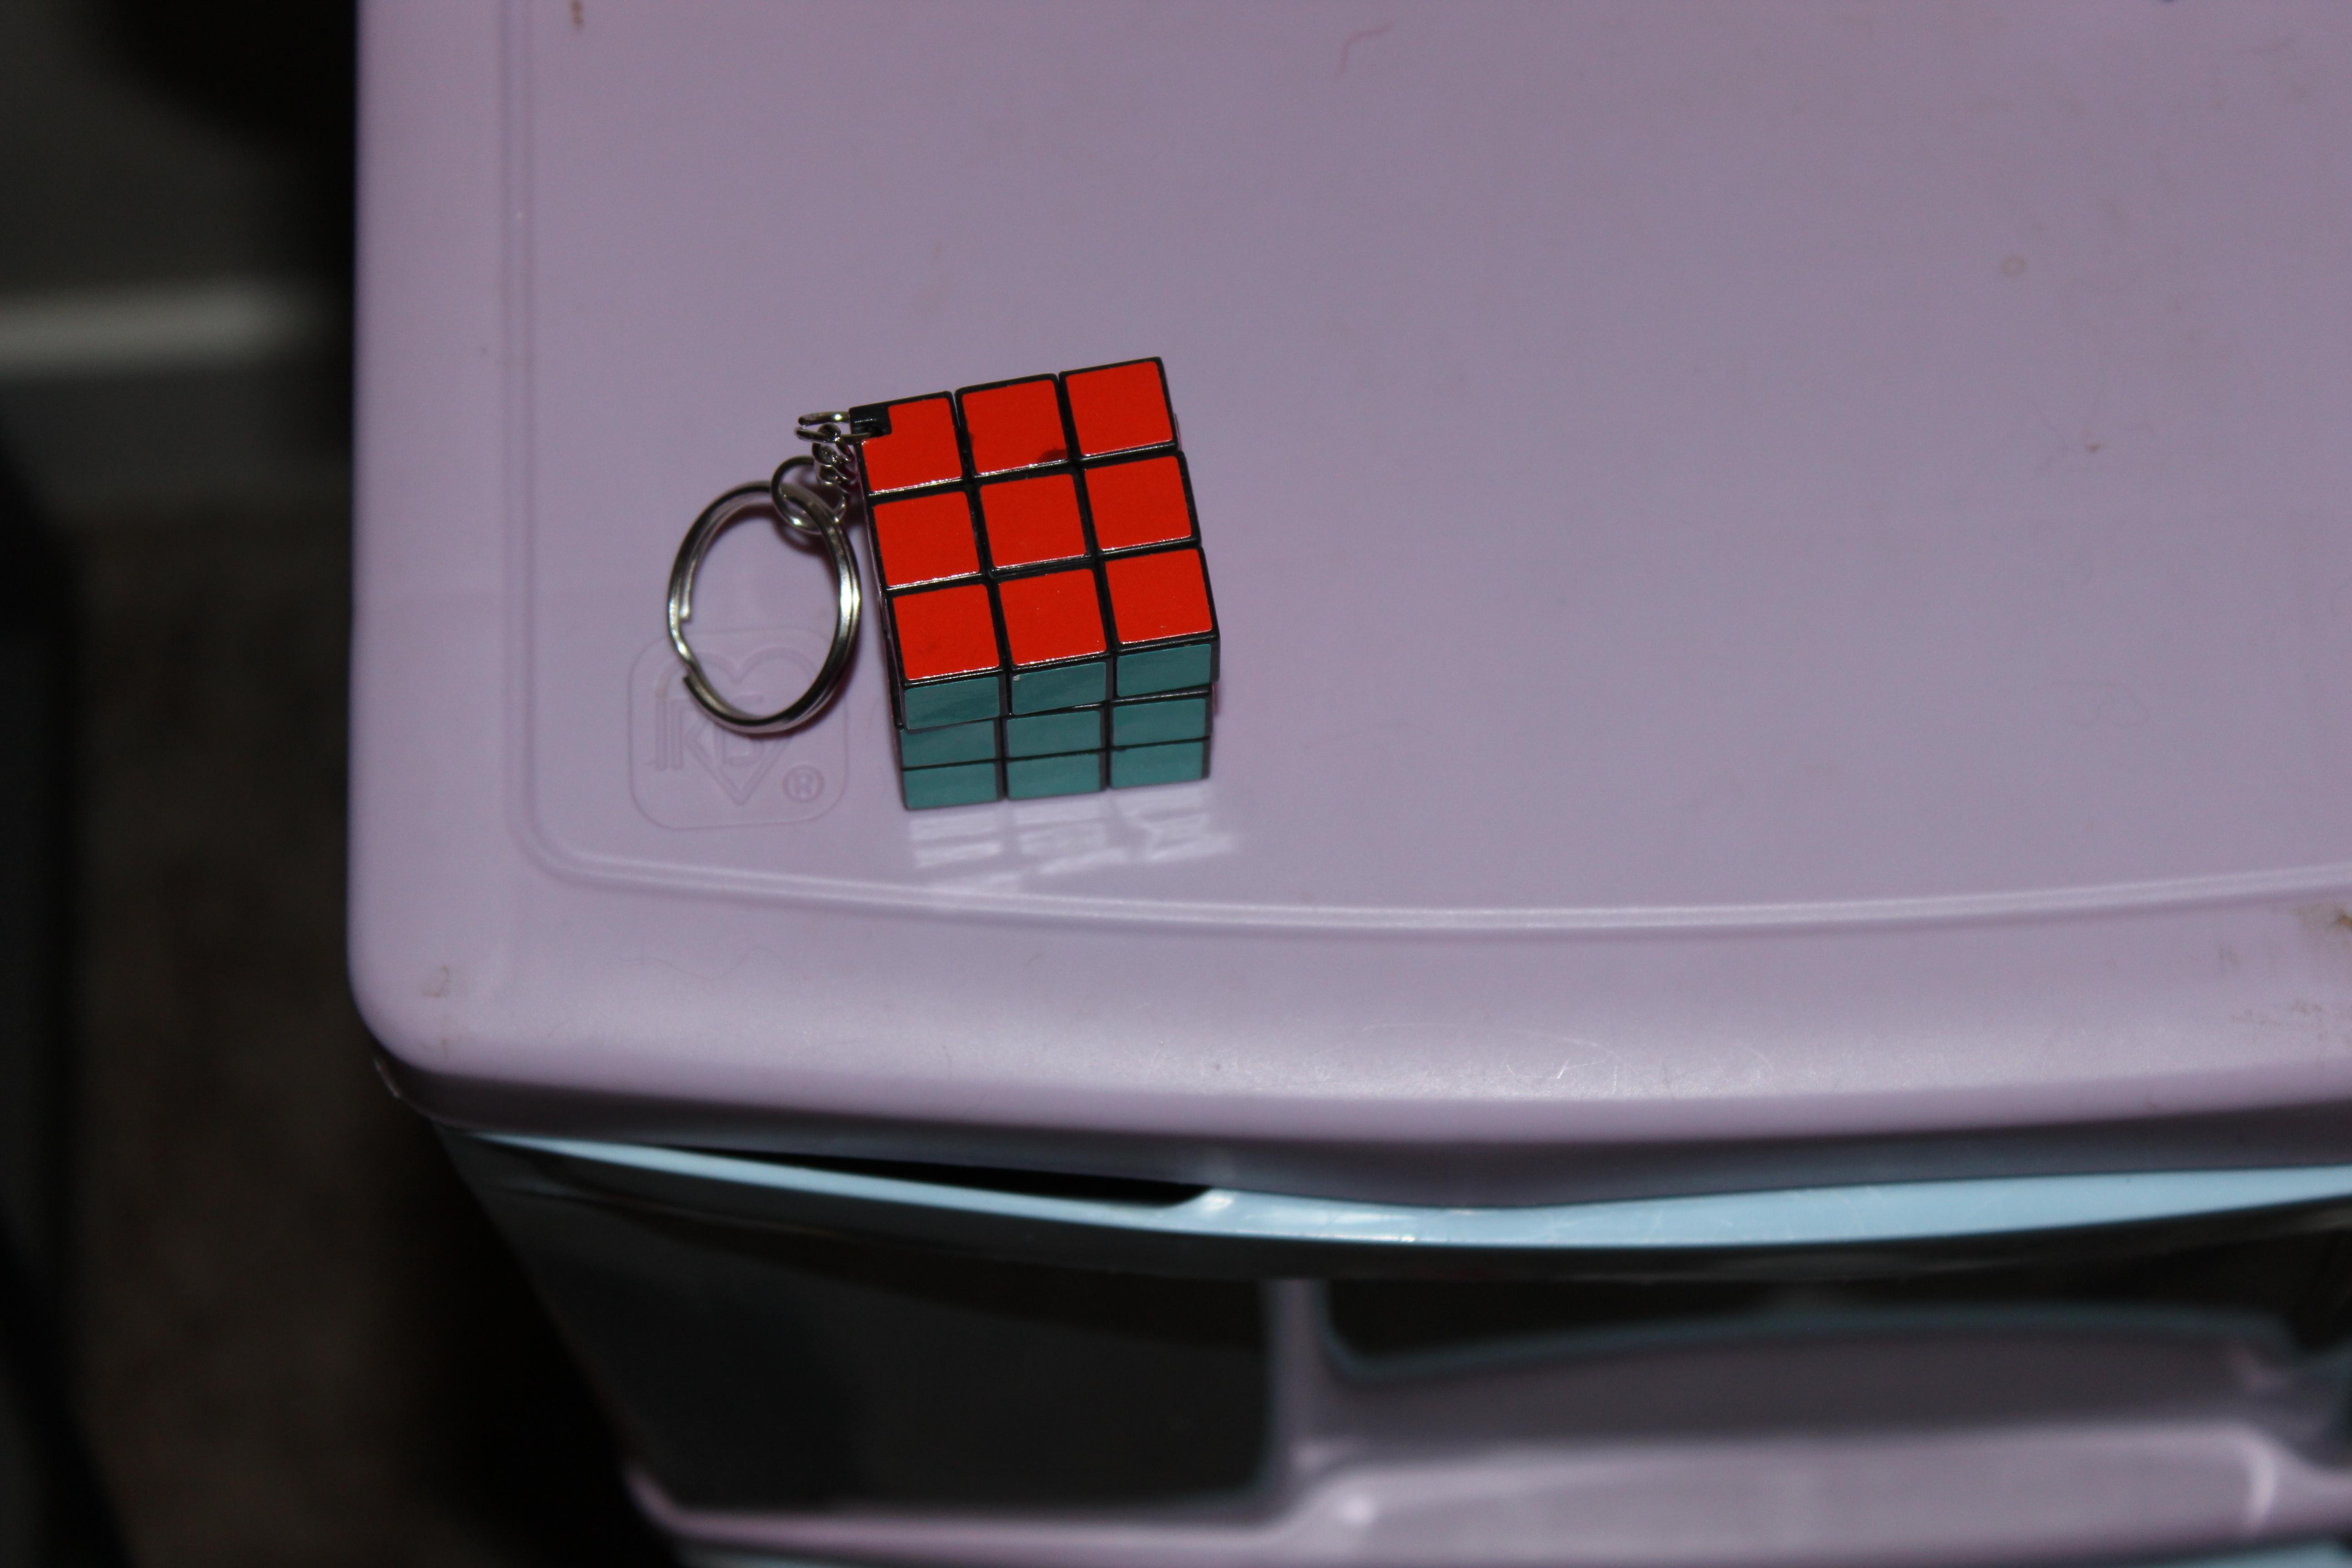rubiksCube: (817, 331, 1260, 829)
